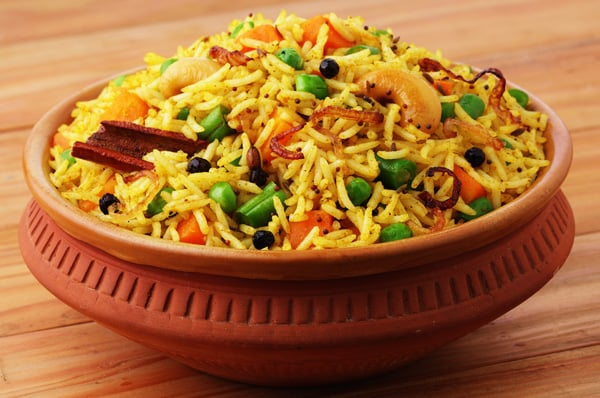sushi: (4, 3, 576, 385), (23, 7, 583, 285)
